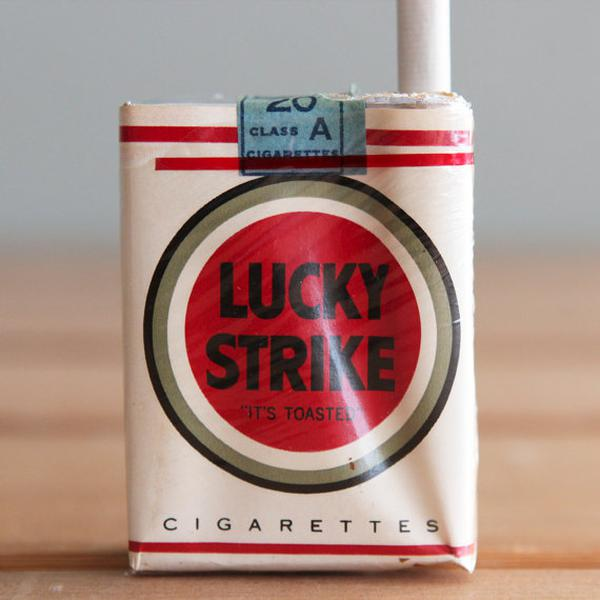lucky_strike_red: (127, 109, 472, 571)
